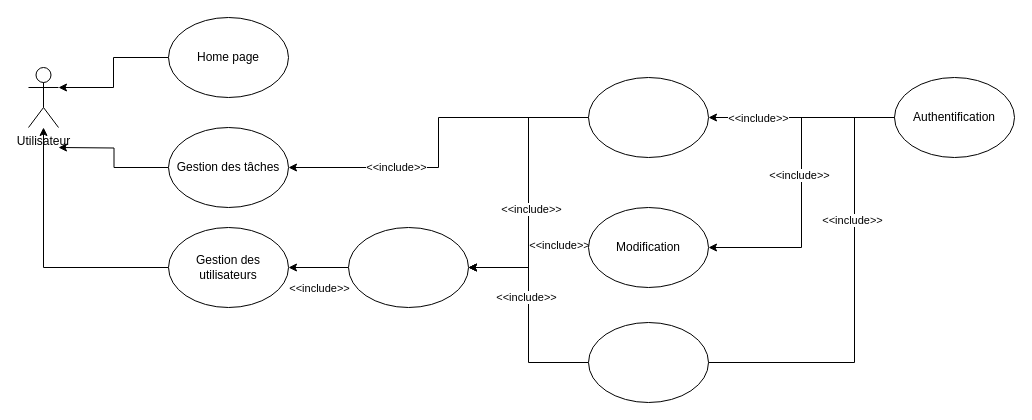
Some shapes in this 1032 by 420 pixel diagram are drawn without their labels. The box of each missing label's shape, as (x1, y1, x2, y2) in pixels:
Ajout: (588, 76, 708, 158)
Permission: (348, 226, 468, 308)
Suppression: (588, 322, 708, 402)
